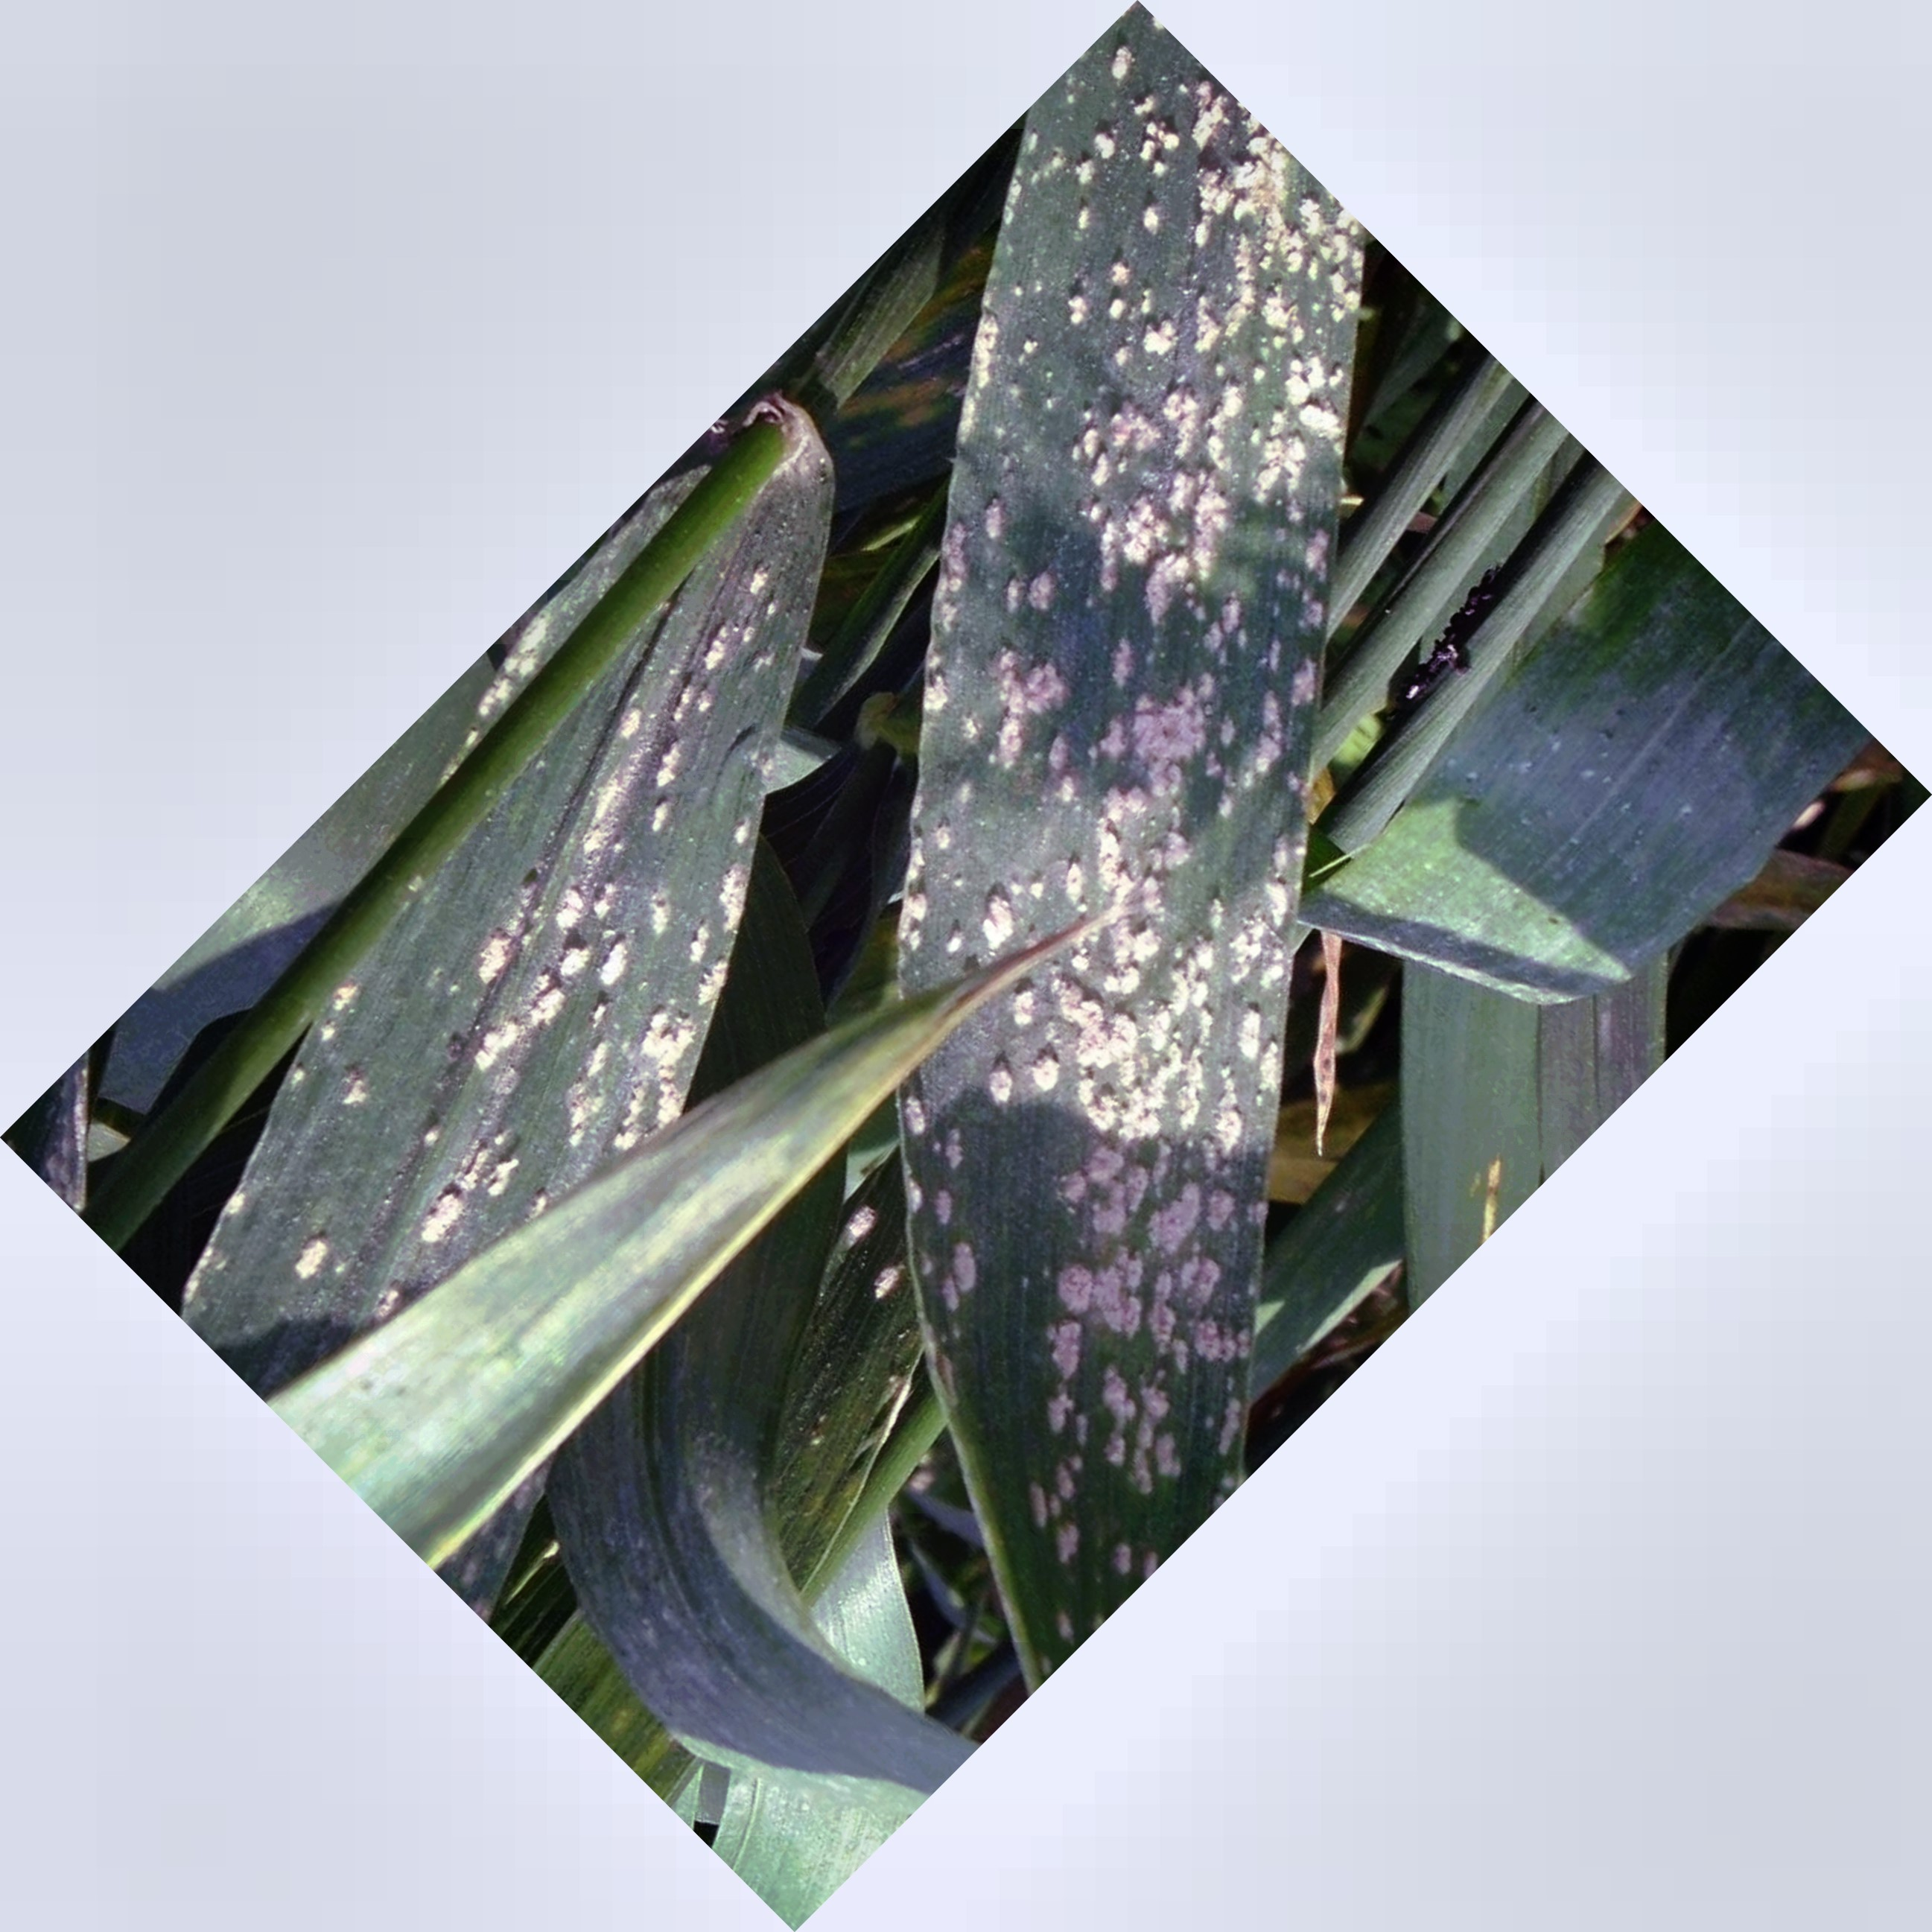Powdery Mildew: (904, 85, 1380, 1467)
